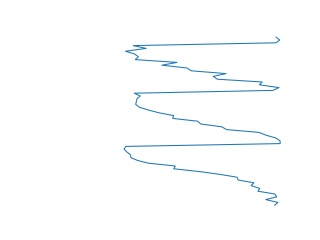distributaryMouthBar: (121, 35, 286, 207)
